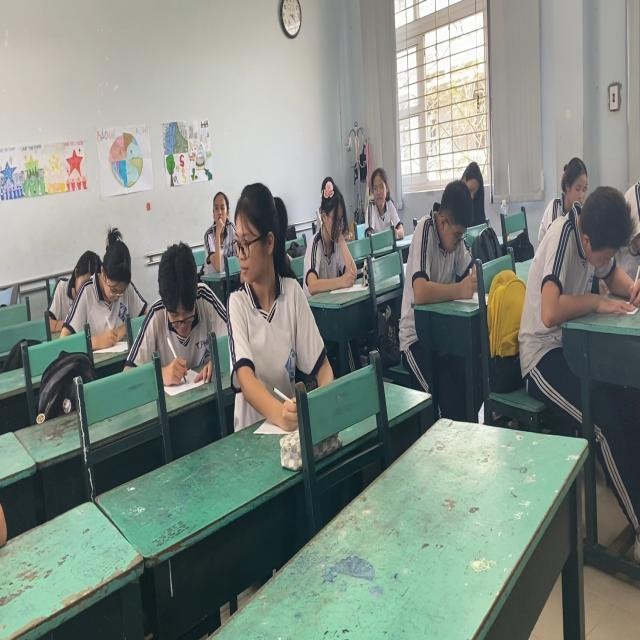cheating: (220, 174, 314, 384)
not_cheating: (522, 153, 632, 312), (144, 246, 220, 381), (49, 233, 140, 333), (409, 181, 479, 305), (304, 171, 358, 294), (196, 180, 238, 264), (364, 164, 409, 240)
